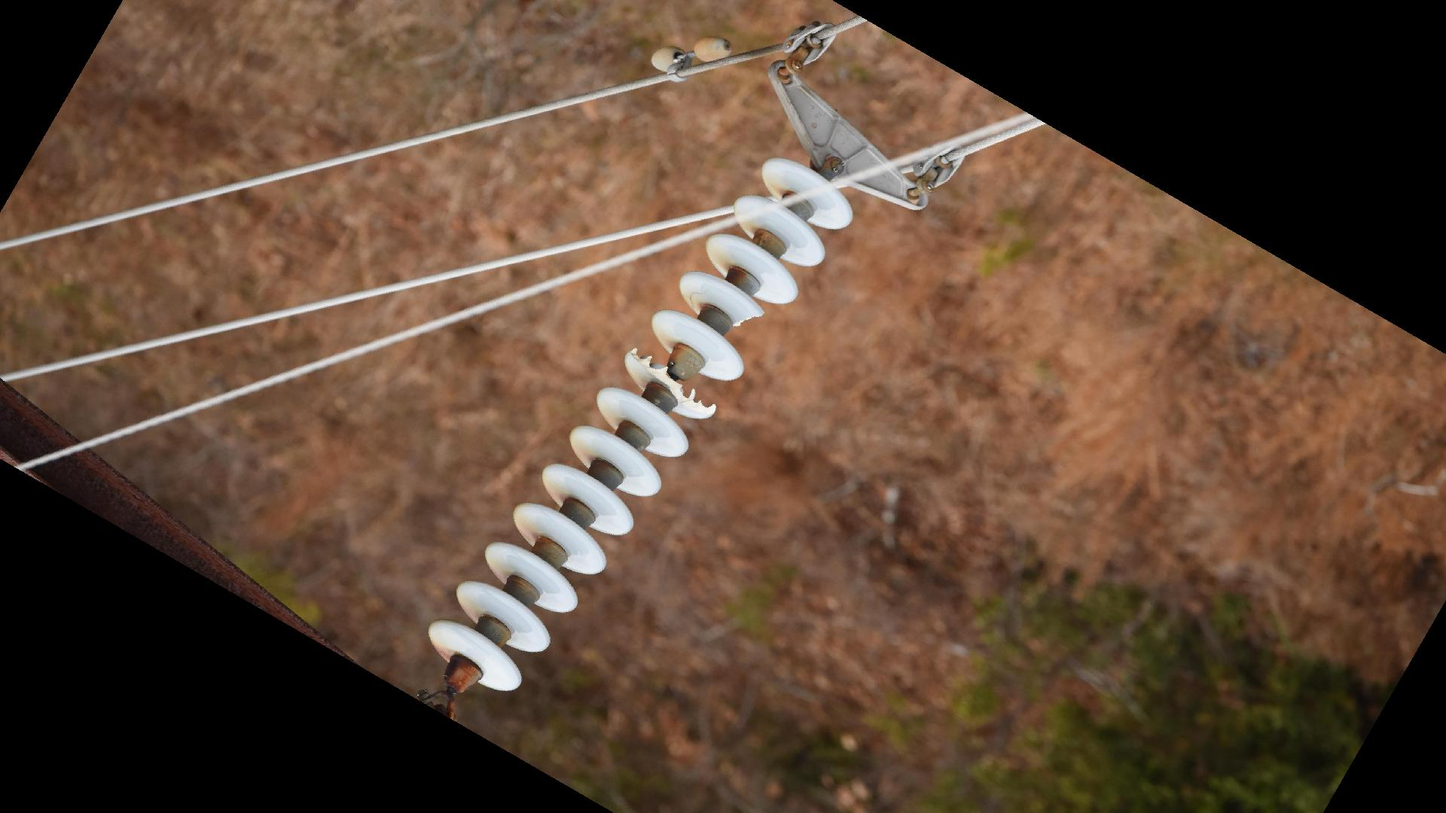insulator: (421, 153, 855, 705)
insulator_breakage: (622, 344, 721, 419)
